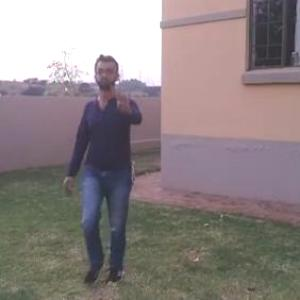takeoff-hand: (112, 85, 140, 117)
